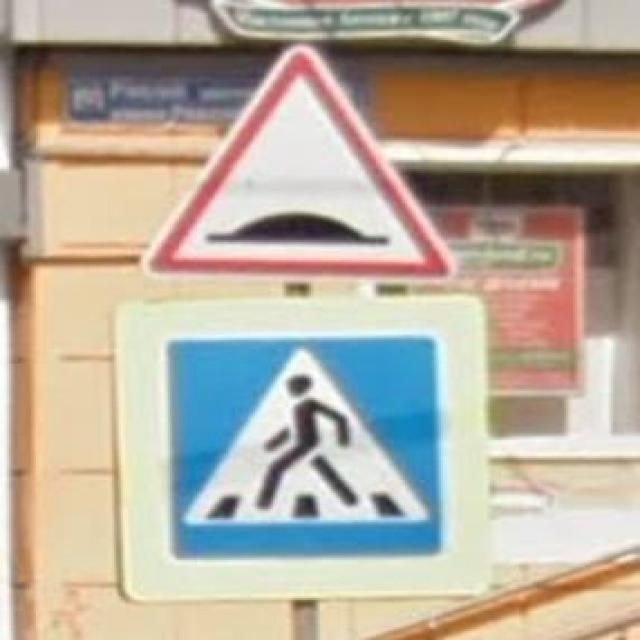Przejscie dla pieszych: (112, 295, 490, 600)
